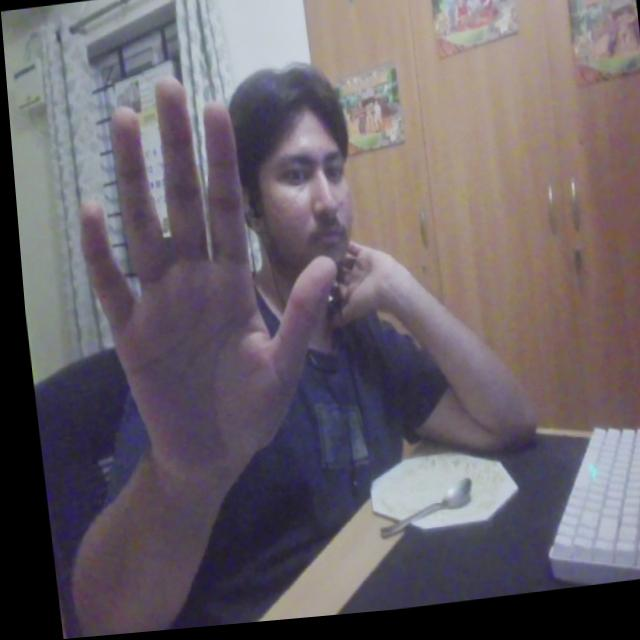hello: (56, 56, 353, 503)
